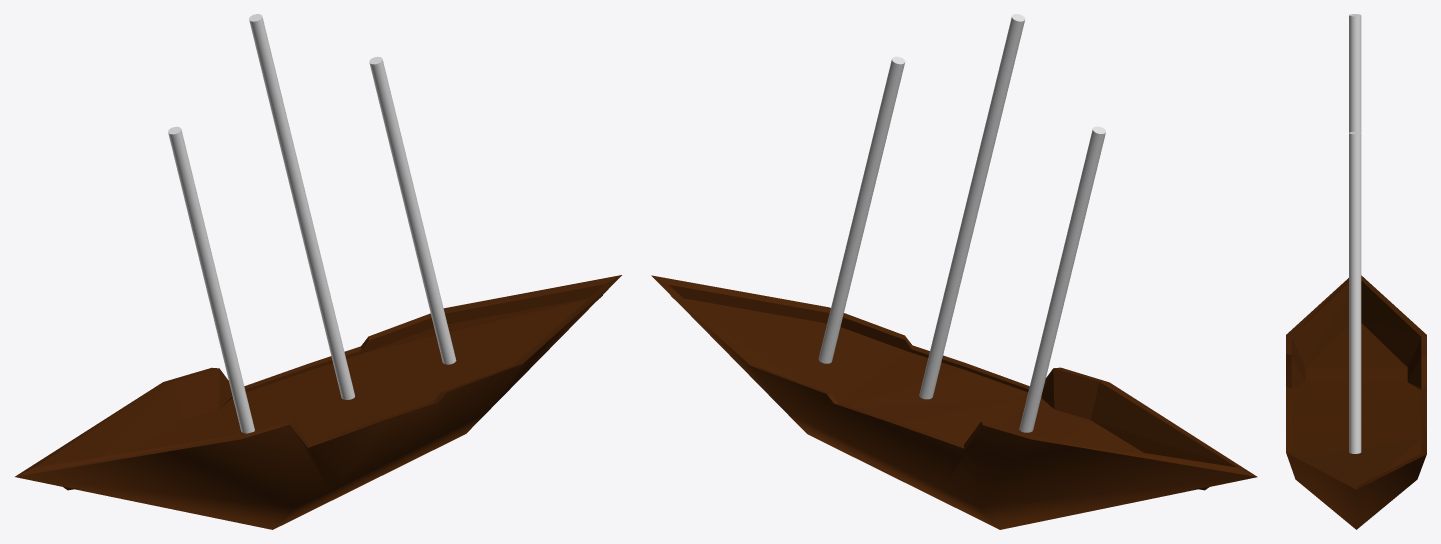
Rendered from ship.FBX.
3 renders of one model, left to right at view 1: azimuth 30°, elevation 25°; view 2: azimuth 150°, elevation 25°; view 3: azimuth 270°, elevation 25°, orthographic. The views are drawn at different scales.
Parts seen in each view (by area): view 1: Box001, Cylinder001, Cylinder002, Cylinder003; view 2: Box001, Cylinder001, Cylinder002, Cylinder003; view 3: Box001, Cylinder002, Cylinder001.
Part boxes in pixels (box(x1,y1,x2,y2)): Box001: box(15, 275, 621, 529); Cylinder001: box(249, 14, 354, 399); Cylinder002: box(369, 56, 456, 364); Cylinder003: box(168, 126, 254, 433); Box001: box(651, 275, 1257, 529); Cylinder001: box(919, 14, 1025, 399); Cylinder002: box(818, 56, 905, 363); Cylinder003: box(1019, 126, 1105, 432); Box001: box(1286, 275, 1426, 529); Cylinder002: box(1349, 132, 1361, 453); Cylinder001: box(1349, 14, 1361, 132).
Bounding box in the file's own units: 1531 × 1247 × 341.
